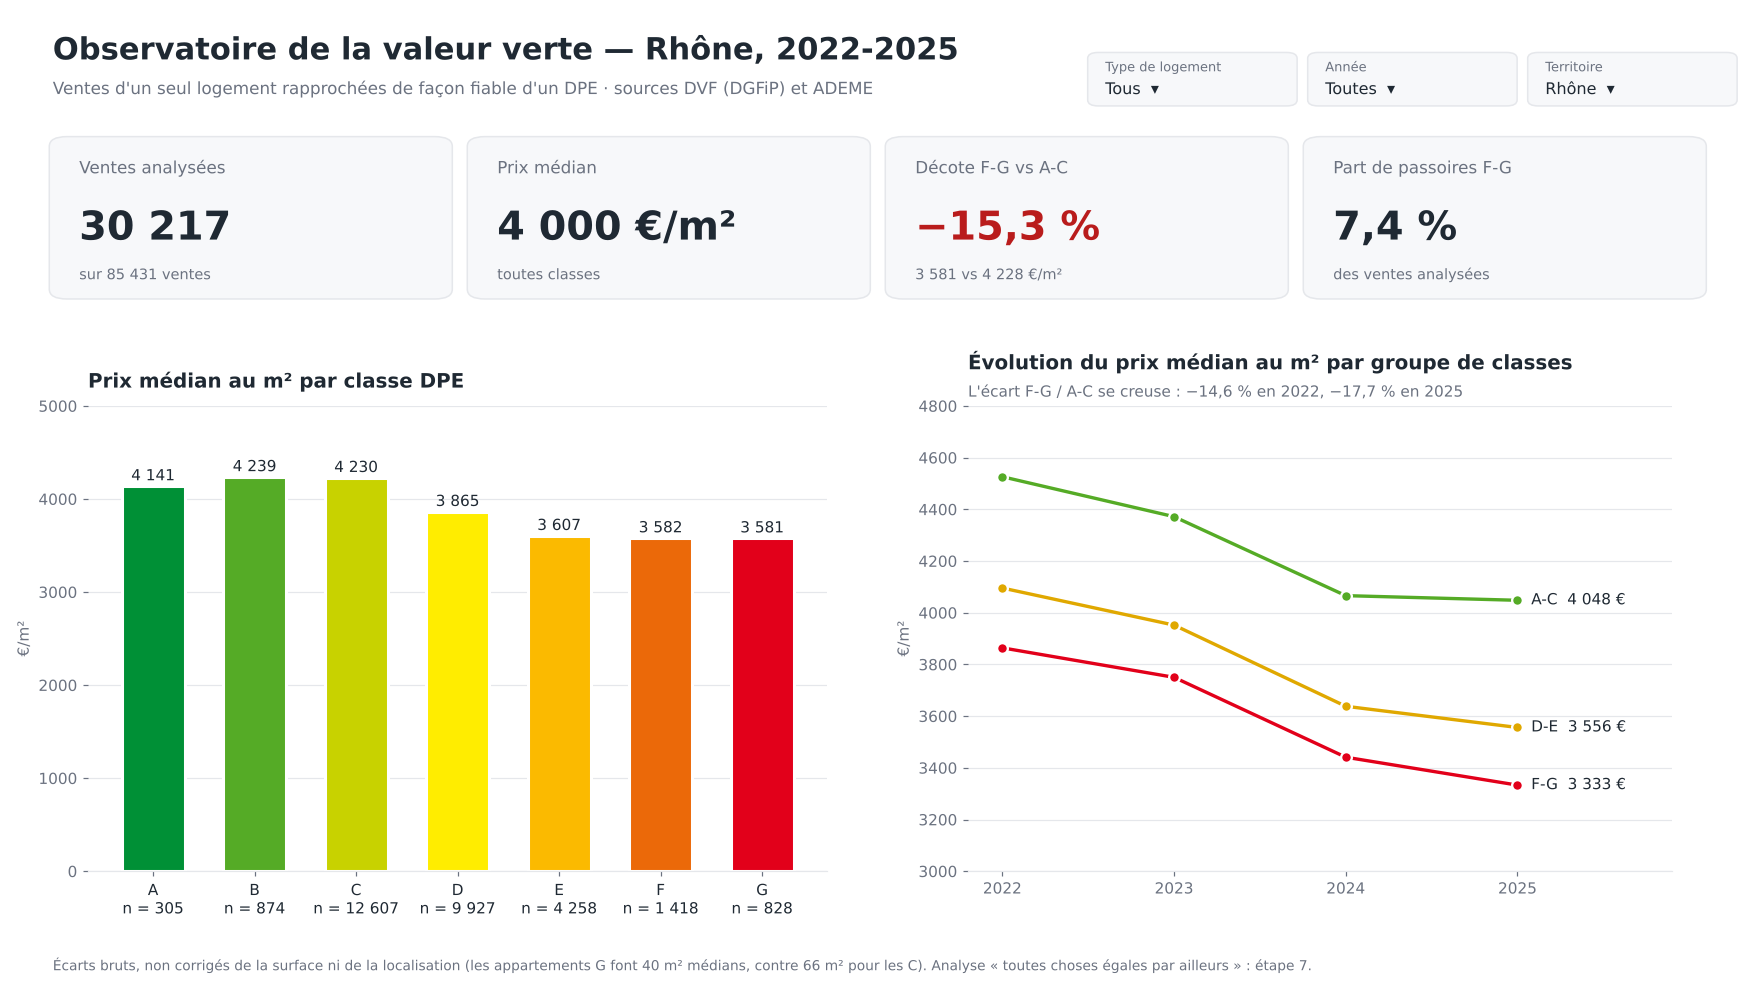

This screenshot's page, from the dashboard's own definition file:
{"tool":"powerbi","page":{"name":"Vue d'ensemble","canvas":[1920,1080],"ordinal":0},"visuals":[{"type":"textbox","box":[30,20,1050,60],"z":0},{"type":"textbox","box":[30,80,1050,40],"z":1000},{"type":"slicer","fields":{"Values":["fait_ventes.type_logement"]},"box":[1100,30,250,75],"z":2000},{"type":"slicer","fields":{"Values":["dim_temps.annee"]},"box":[1370,30,250,75],"z":3000},{"type":"slicer","fields":{"Values":["dim_commune.Zone"]},"box":[1640,30,250,75],"z":4000},{"type":"cardVisual","fields":{"Data":["Mesures.Ventes analysées (affichage)"]},"box":[30,150,450,170],"z":5000},{"type":"cardVisual","fields":{"Data":["Mesures.Prix m² médian (affichage)"]},"box":[500,150,450,170],"z":6000},{"type":"cardVisual","fields":{"Data":["Mesures.Décote F-G vs A-C"]},"box":[970,150,450,170],"z":7000},{"type":"cardVisual","fields":{"Data":["Mesures.Part de passoires"]},"box":[1440,150,450,170],"z":8000},{"type":"columnChart","title":"Prix médian au m² par classe DPE","fields":{"Category":["dim_dpe.etiquette_dpe"],"Series":["dim_dpe.etiquette_dpe"],"Y":["Mesures.Prix m² médian"]},"box":[30,350,920,650],"z":9000},{"type":"lineChart","title":"Évolution du prix médian au m² par groupe de classes","fields":{"Category":["dim_temps.annee"],"Series":["dim_dpe.Groupe DPE"],"Y":["Mesures.Prix m² médian"]},"box":[962,350,920,650],"z":10000},{"type":"textbox","box":[30,1020,1200,40],"z":11000}]}

Visuals, with their boxes in screenshot pixels (x1, y1, x2, y2), scaled from the page's 1920x1080 canvas onto the 1760x990 screenshot:
textbox: x1=28, y1=18, x2=990, y2=73
textbox: x1=28, y1=73, x2=990, y2=110
slicer - fait_ventes.type_logement: x1=1008, y1=28, x2=1238, y2=96
slicer - dim_temps.annee: x1=1256, y1=28, x2=1485, y2=96
slicer - dim_commune.Zone: x1=1503, y1=28, x2=1732, y2=96
cardVisual - Mesures.Ventes analysées (affichage): x1=28, y1=138, x2=440, y2=293
cardVisual - Mesures.Prix m² médian (affichage): x1=458, y1=138, x2=871, y2=293
cardVisual - Mesures.Décote F-G vs A-C: x1=889, y1=138, x2=1302, y2=293
cardVisual - Mesures.Part de passoires: x1=1320, y1=138, x2=1732, y2=293
"Prix médian au m² par classe DPE" columnChart: x1=28, y1=321, x2=871, y2=917
"Évolution du prix médian au m² par groupe de classes" lineChart: x1=882, y1=321, x2=1725, y2=917
textbox: x1=28, y1=935, x2=1128, y2=972
